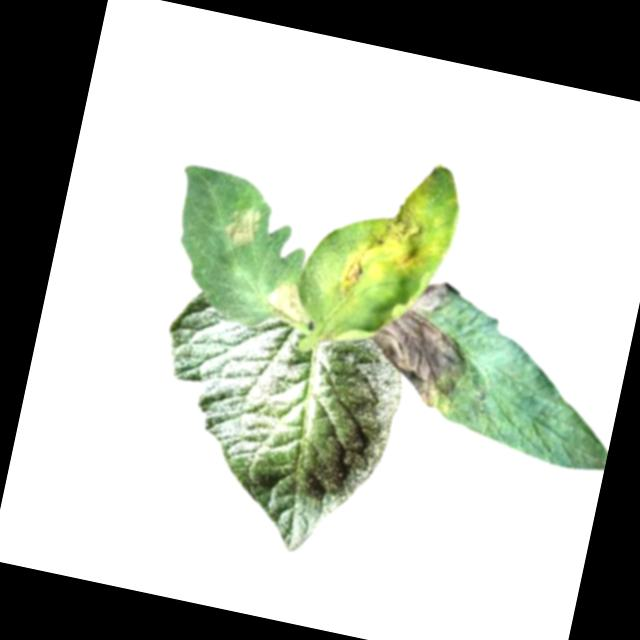Late_blight: (361, 270, 484, 416), (369, 194, 449, 274), (262, 277, 317, 326), (218, 202, 264, 253), (338, 248, 370, 304), (416, 167, 443, 201)
healthy: (128, 285, 414, 568)
